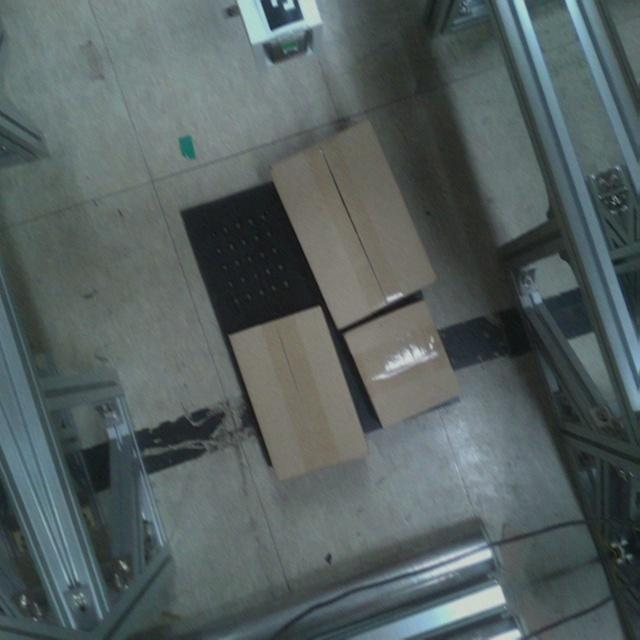box: (264, 110, 442, 336), (222, 298, 378, 489), (338, 294, 469, 434)
